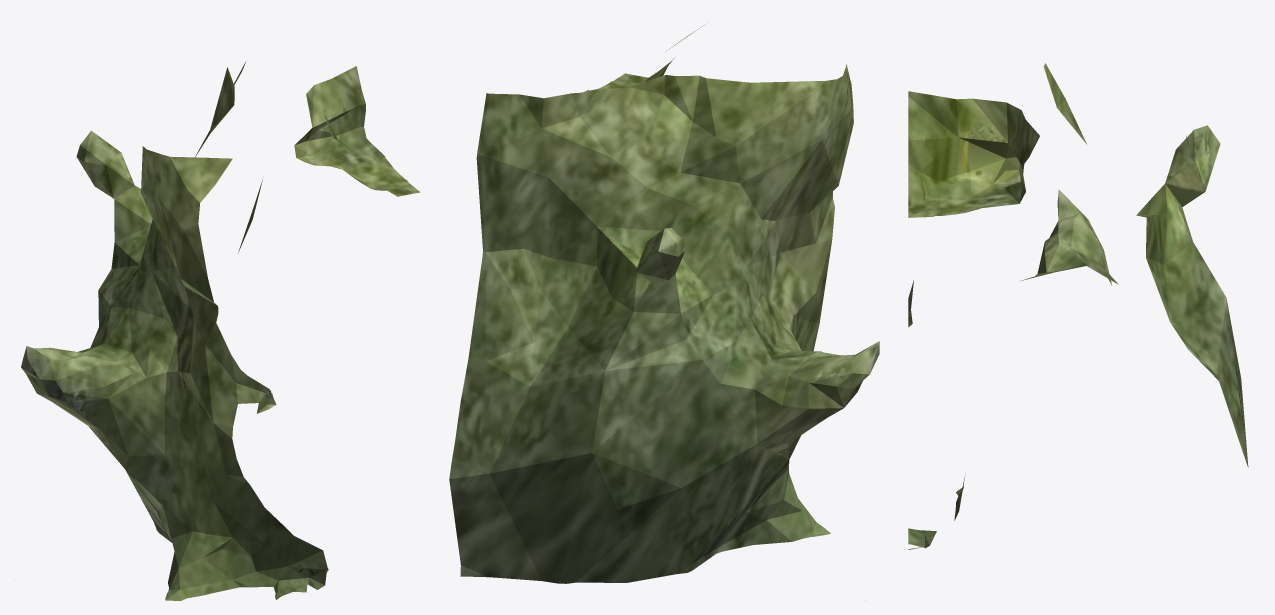
The picture shows the model from 3 angles, left to right: view 1: azimuth 30°, elevation 25°; view 2: azimuth 150°, elevation 25°; view 3: azimuth 270°, elevation 25°; orthographic projection. The views are drawn at different scales.
Size of the model in its own units: 2.19 by 2.95 by 2.02.
3 materials, 3 textured.
